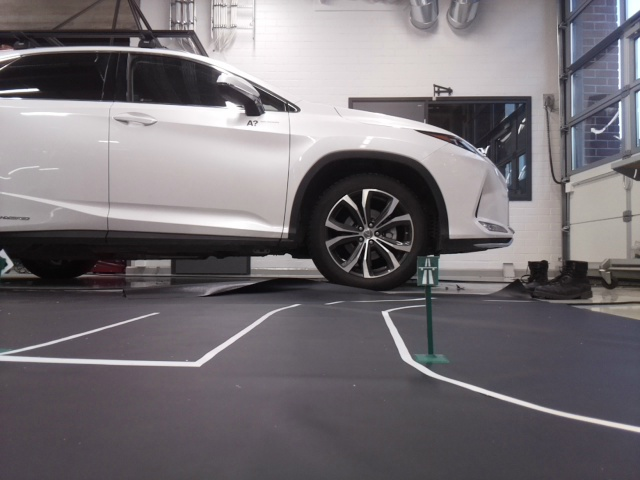HighwayEntrance: (418, 257, 438, 284)
